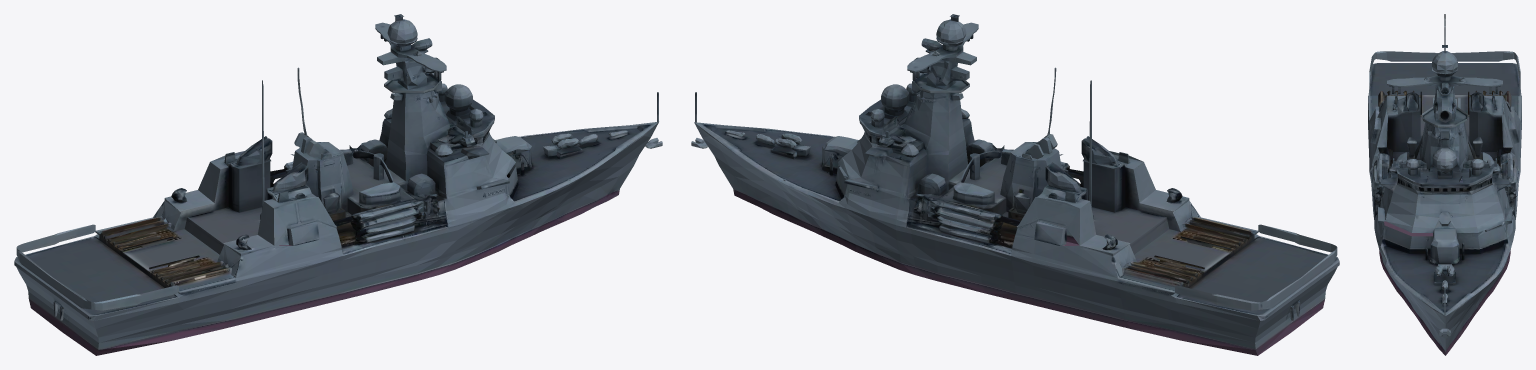
Rendered from corsair_LOD0.glb.
The picture shows the model from 3 angles, left to right: view 1: azimuth 30°, elevation 25°; view 2: azimuth 150°, elevation 25°; view 3: azimuth 270°, elevation 25°; orthographic projection. The views are drawn at different scales.
Parts seen in each view (by area): view 1: corsair_LOD0; view 2: corsair_LOD0; view 3: corsair_LOD0.
Boxes of the visible parts, box(x1,y1,x2,y2) form: corsair_LOD0: box(14, 14, 662, 355); corsair_LOD0: box(691, 14, 1339, 355); corsair_LOD0: box(1368, 14, 1521, 355).
Size of the model in its own units: 0.9998 by 0.3678 by 0.2406.
1 material, 1 textured.
